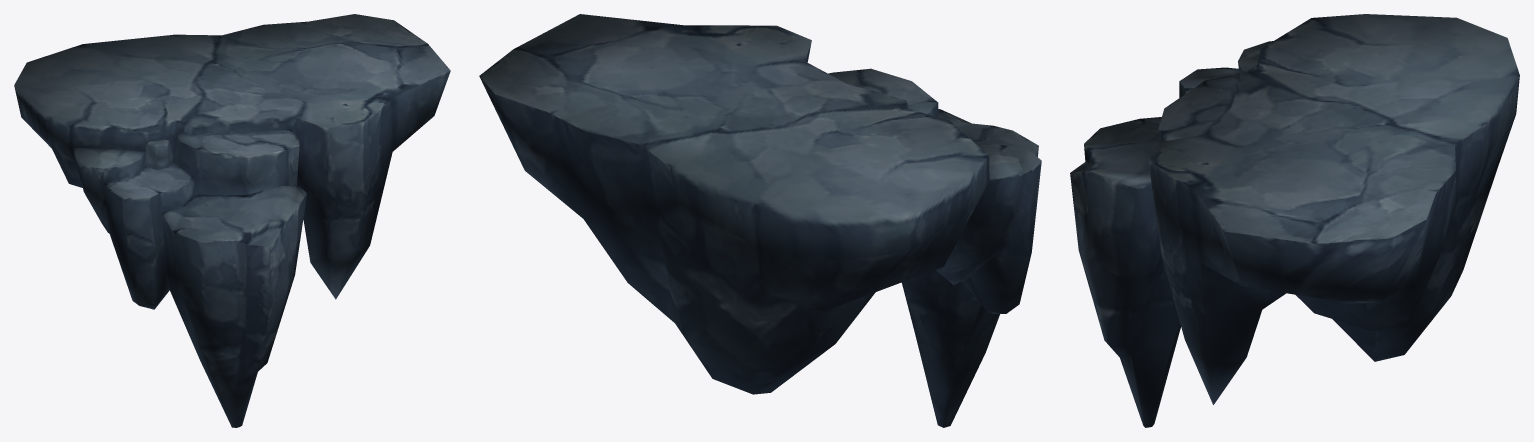
Rendered from Area_02_16.fbx.
3 renders of one model, left to right at view 1: azimuth 30°, elevation 25°; view 2: azimuth 150°, elevation 25°; view 3: azimuth 270°, elevation 25°, orthographic. The views are drawn at different scales.
Visible parts, largest first — view 1: Area_02_16; view 2: Area_02_16; view 3: Area_02_16.
Part boxes in pixels (x1,y1,x2,y2): Area_02_16: (14,14,450,427); Area_02_16: (479,14,1041,427); Area_02_16: (1070,14,1519,427).
Size of the model in its own units: 3708 by 2656 by 3127.
